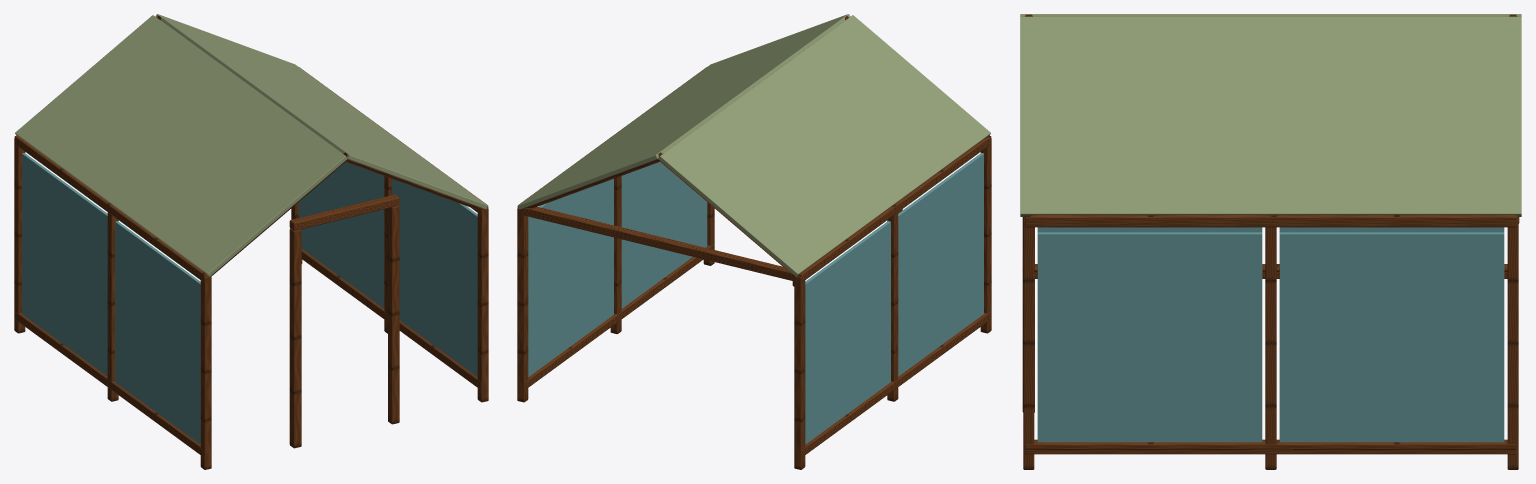
The model's file is survival-greenhouse-and-irrigation-reclaimed-window-gr-ee7003f7__21309.glb.
The picture shows the model from 3 angles, left to right: view 1: azimuth 30°, elevation 25°; view 2: azimuth 150°, elevation 25°; view 3: azimuth 270°, elevation 25°; orthographic projection. The views are drawn at different scales.
Visible parts, largest first — view 1: reclaimed-window-greenhouse; view 2: reclaimed-window-greenhouse; view 3: reclaimed-window-greenhouse.
Part boxes in pixels (left/top/right/bottom): reclaimed-window-greenhouse: left=14, top=14, right=488, bottom=469; reclaimed-window-greenhouse: left=517, top=14, right=991, bottom=469; reclaimed-window-greenhouse: left=1020, top=14, right=1521, bottom=469.
Bounding box in the file's own units: 2.47 × 2.33 × 2.9.
3 materials, 1 textured.
